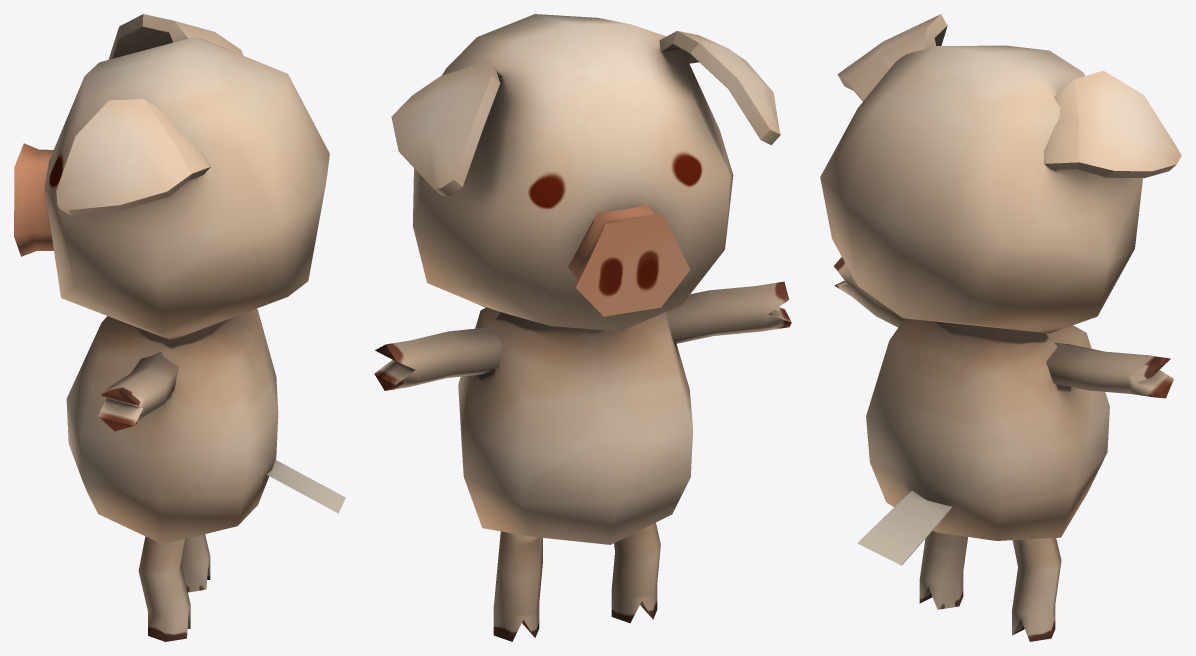
The model's file is pig water 1.obj.
3 renders of one model, left to right at view 1: azimuth 30°, elevation 25°; view 2: azimuth 150°, elevation 25°; view 3: azimuth 270°, elevation 25°, orthographic. The views are drawn at different scales.
Visible parts, largest first — view 1: pCube167; view 2: pCube167; view 3: pCube167.
Boxes of the visible parts, <box> form: pCube167: <box>14,14,345,641</box>; pCube167: <box>374,14,791,641</box>; pCube167: <box>820,14,1181,641</box>.
Bounding box in the file's own units: 1.02 × 1.81 × 1.05.
1 material, 1 textured.
